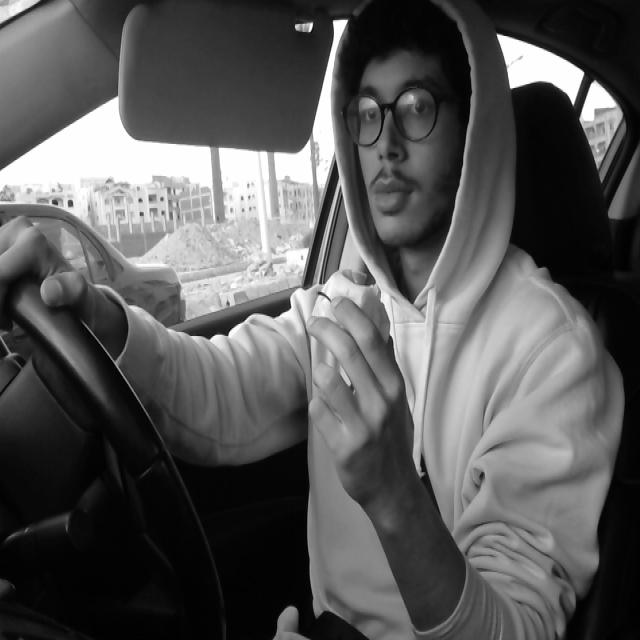eating: (308, 268, 398, 366)
